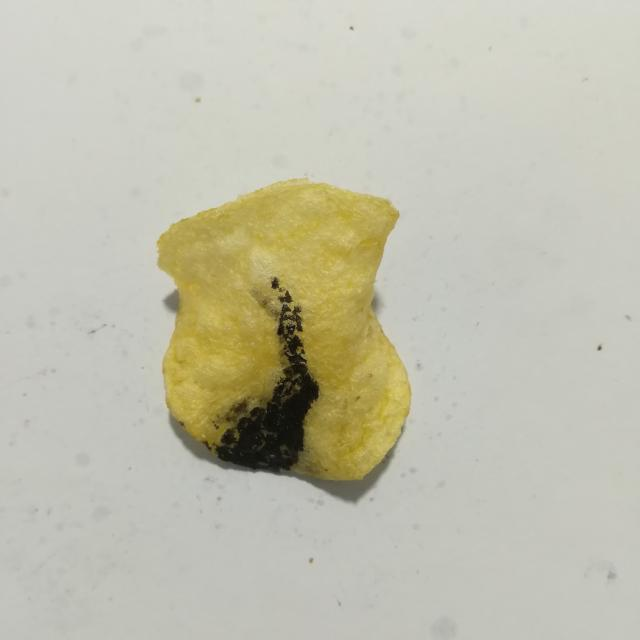chip: (157, 179, 411, 480)
damaged: (216, 290, 319, 470), (271, 277, 285, 292)
semi-damaged: (212, 289, 289, 440)
